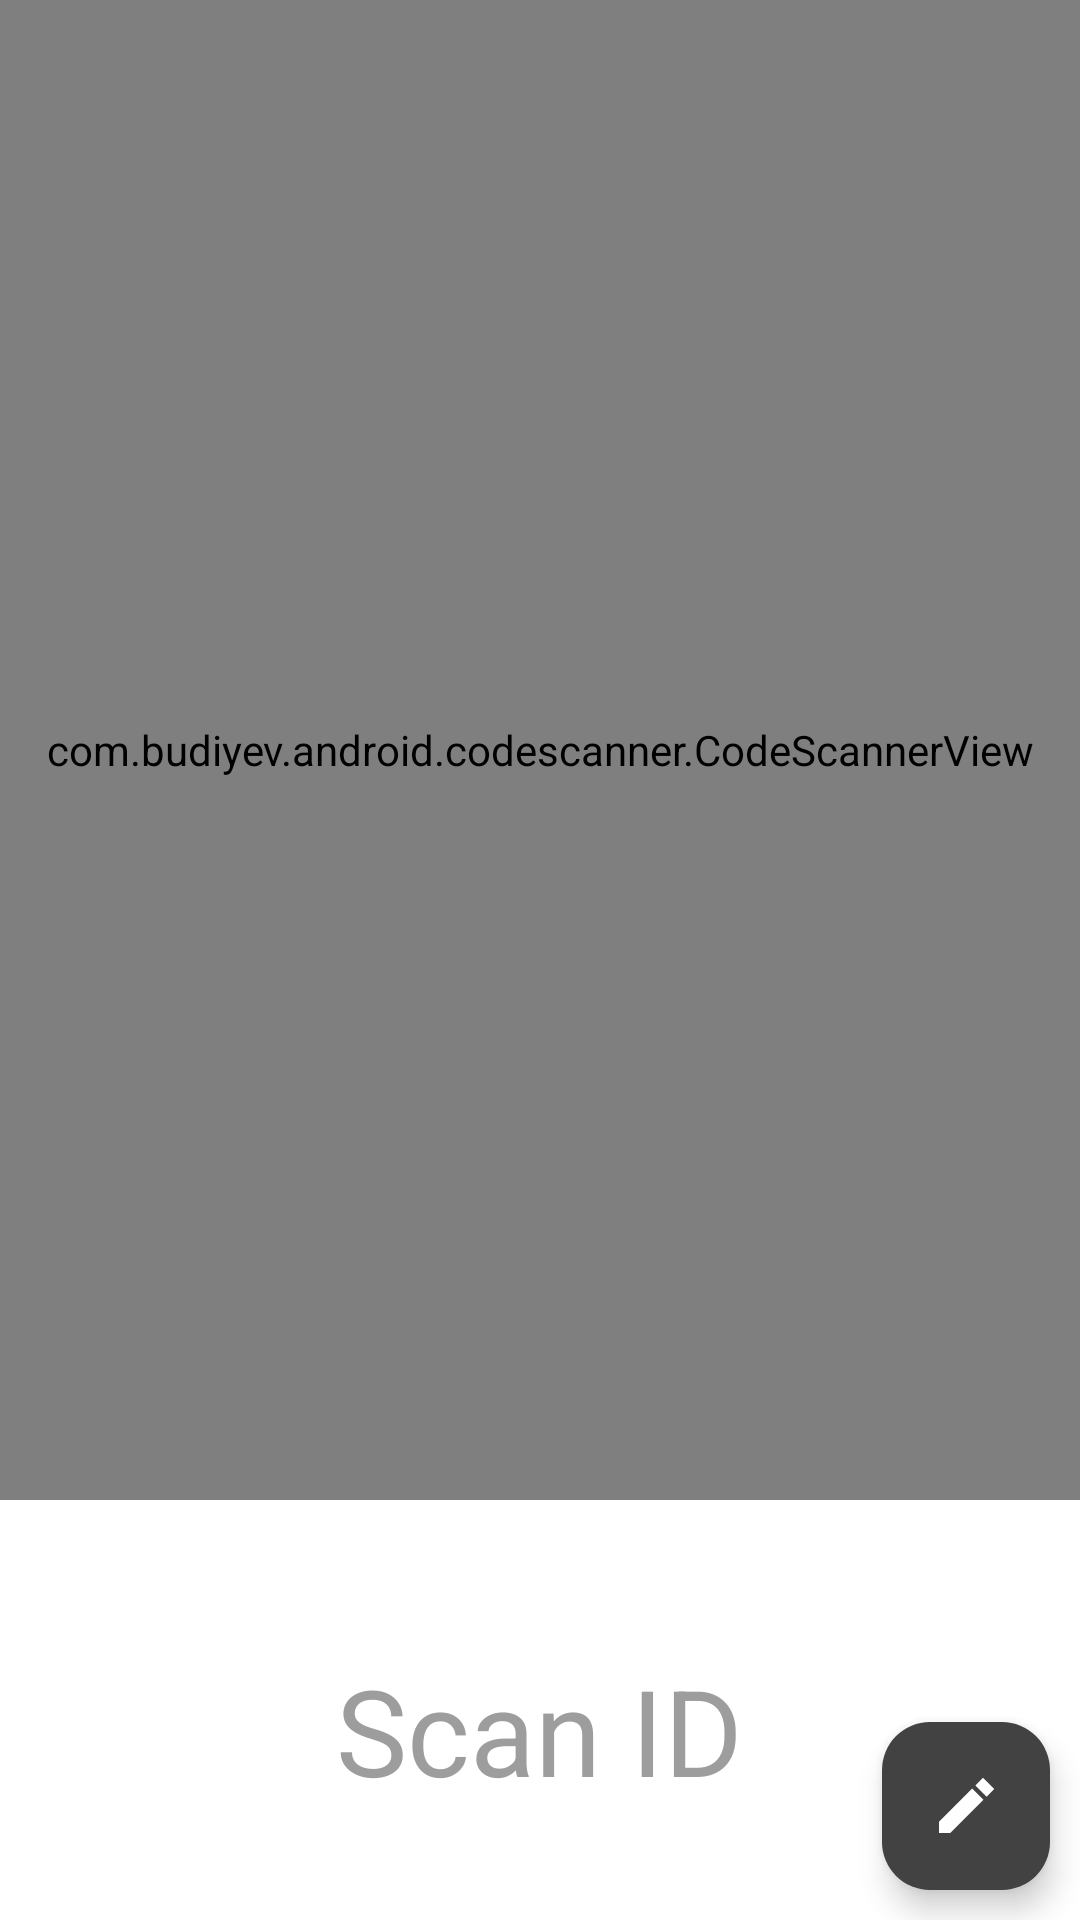

Where icons sit on this 1080x1920 app screen, as (x1, y1, x2, y2):
edit: (882, 1722, 1050, 1890)
